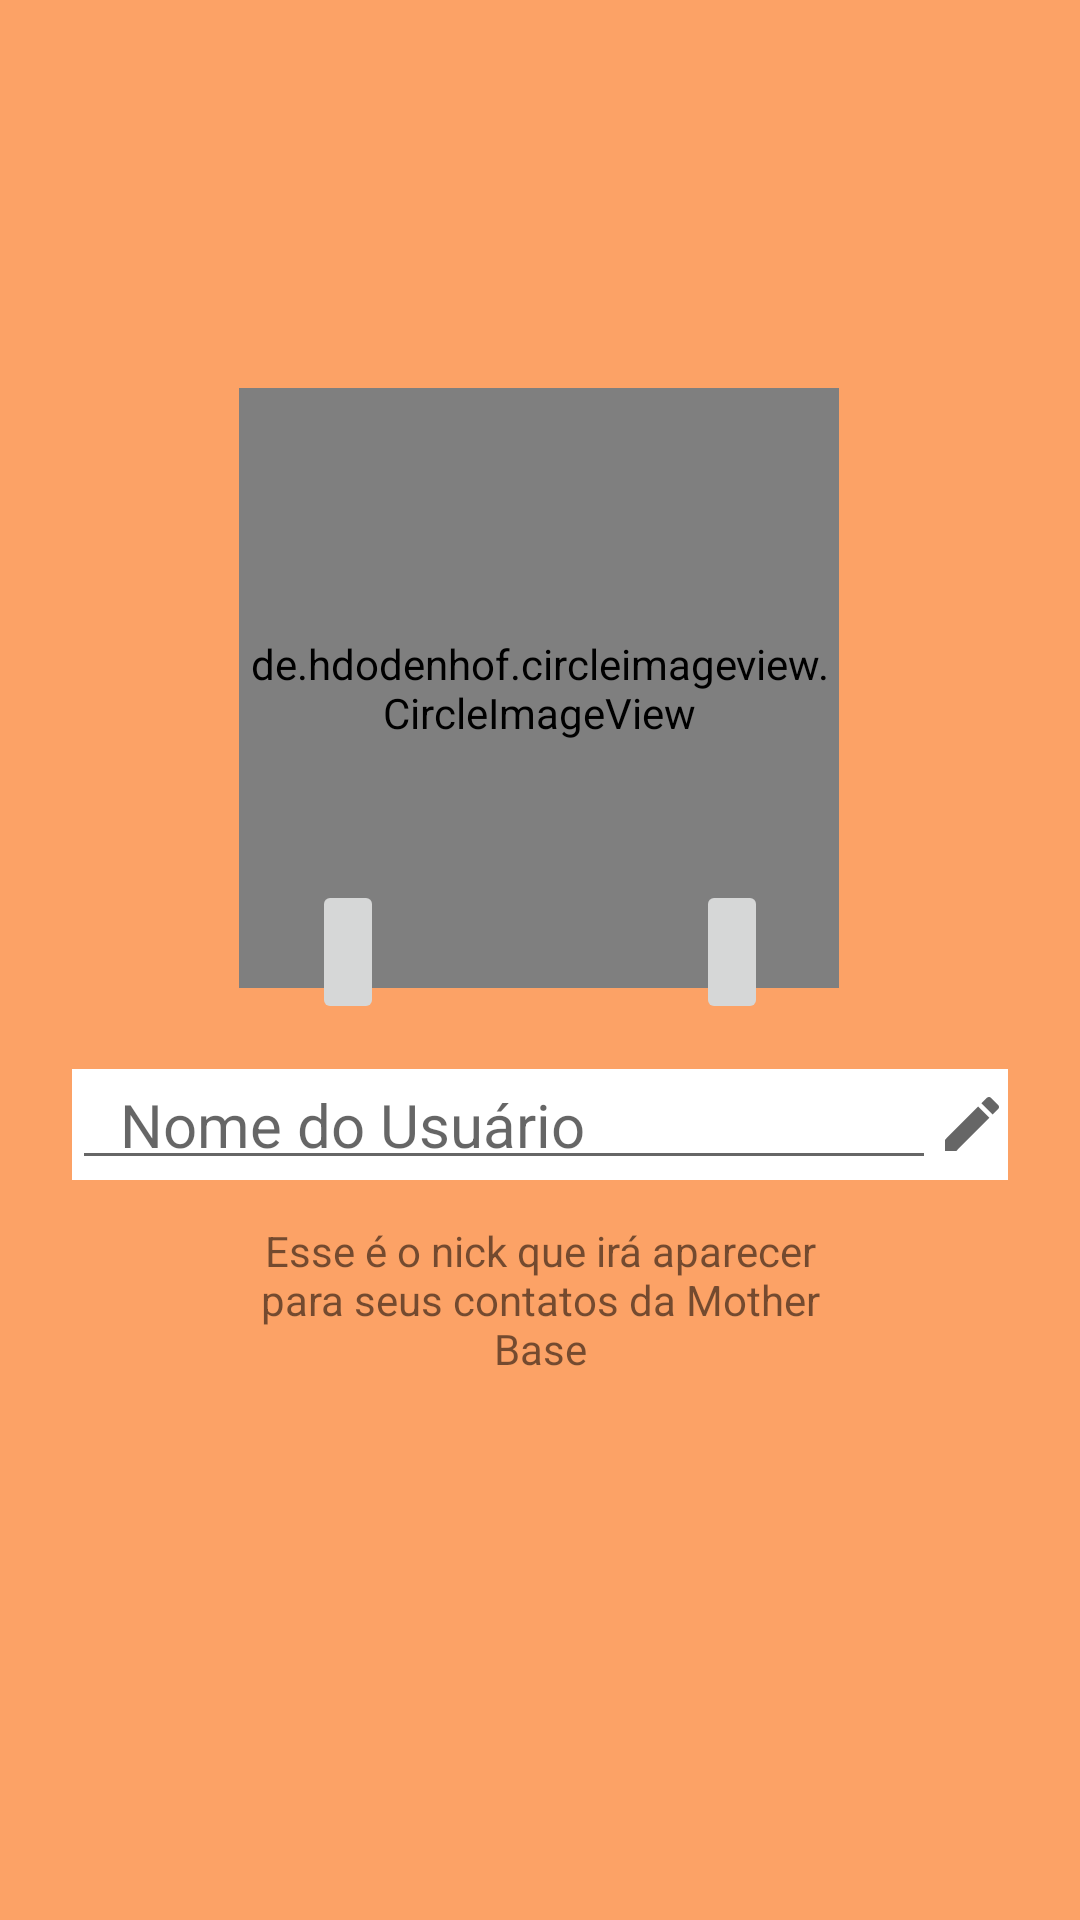

Icon bounding boxes for this 1080×1920 phone screenshot, format detection(x1, y1, x2, y2):
editar laranja: detection(945, 1097, 999, 1151)
